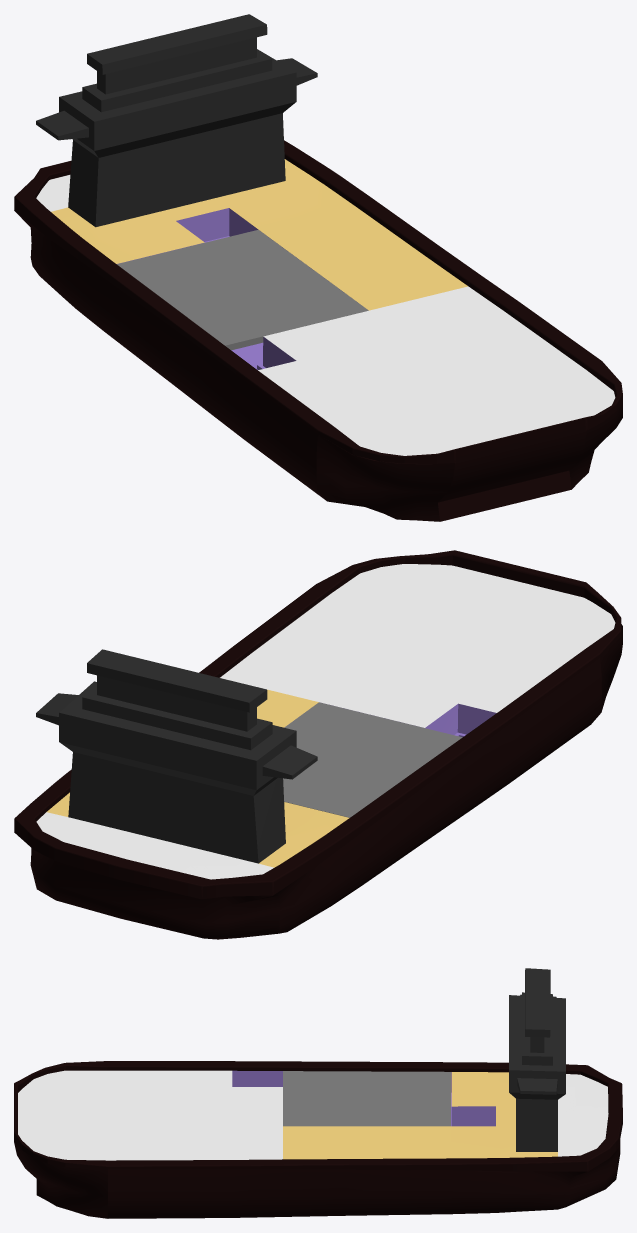
The model's file is Ship_Full_03.fbx.
The picture shows the model from 3 angles, top to bottom: view 1: azimuth 30°, elevation 25°; view 2: azimuth 150°, elevation 25°; view 3: azimuth 270°, elevation 25°; orthographic projection. The views are drawn at different scales.
Parts seen in each view (by area): view 1: Floor, Cabin, Sides(Body), UpperLining, Floor_piece, Inside Walls; view 2: Floor, Cabin, Sides(Body), UpperLining, Floor_piece, Inside Walls; view 3: Floor, Sides(Body), UpperLining, Floor_piece, Cabin, Inside Walls.
Boxes of the visible parts, x1=… form: Floor: x1=36, y1=159, x2=615, y2=455; Cabin: x1=36, y1=14, x2=317, y2=227; Sides(Body): x1=15, y1=211, x2=622, y2=521; UpperLining: x1=14, y1=140, x2=622, y2=463; Floor_piece: x1=117, y1=229, x2=368, y2=350; Inside Walls: x1=116, y1=208, x2=311, y2=369; Floor: x1=36, y1=564, x2=615, y2=879; Cabin: x1=36, y1=649, x2=317, y2=863; Sides(Body): x1=30, y1=624, x2=622, y2=939; UpperLining: x1=14, y1=550, x2=621, y2=899; Floor_piece: x1=283, y1=702, x2=462, y2=817; Inside Walls: x1=329, y1=703, x2=496, y2=734; Floor: x1=18, y1=1070, x2=608, y2=1160; Sides(Body): x1=14, y1=1139, x2=620, y2=1218; UpperLining: x1=14, y1=1061, x2=622, y2=1171; Floor_piece: x1=283, y1=1071, x2=450, y2=1126; Cabin: x1=509, y1=968, x2=565, y2=1151; Inside Walls: x1=232, y1=1070, x2=495, y2=1126.
Bounding box in the file's own units: 240 × 183 × 579.
